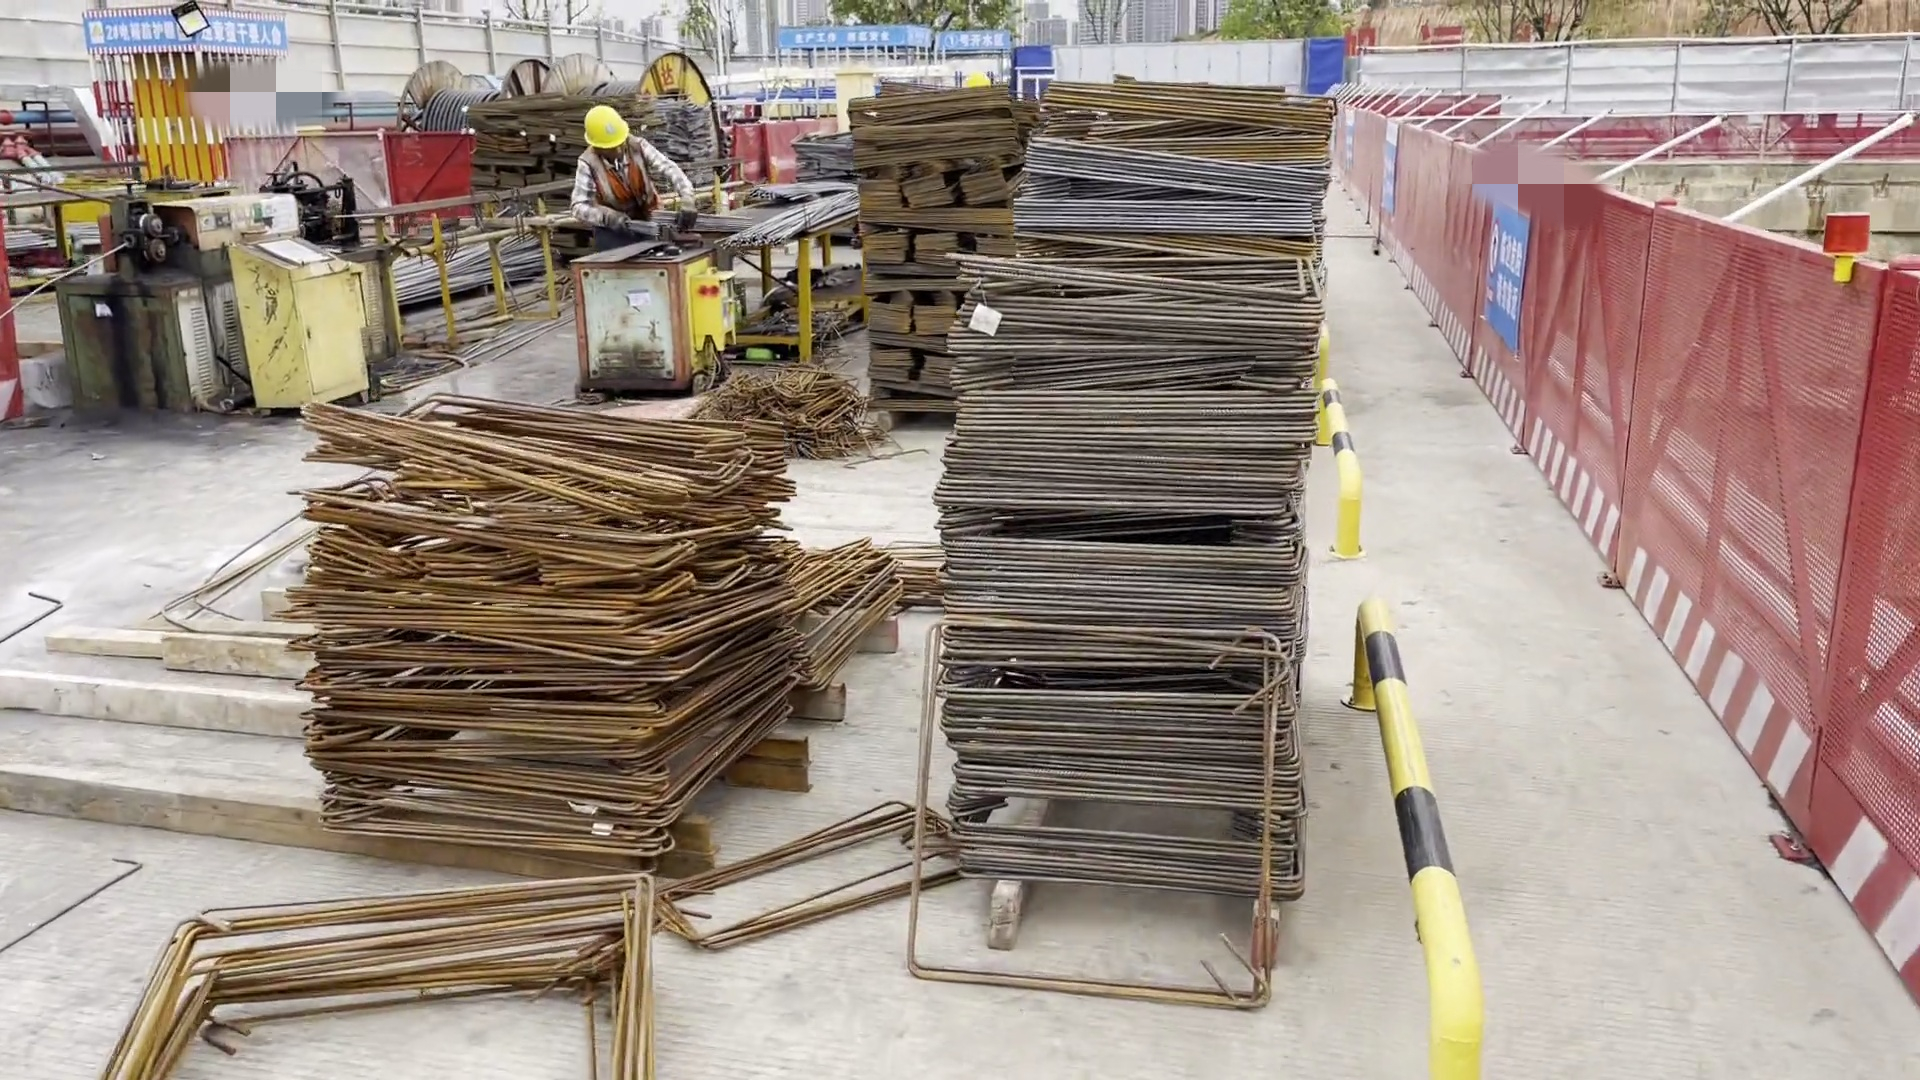cutter: (34, 166, 230, 416), (550, 223, 738, 414)
ebox: (223, 227, 376, 424), (113, 66, 234, 203), (822, 58, 876, 146)
fence: (1703, 218, 1920, 1016), (1458, 150, 1725, 734), (1335, 103, 1476, 330), (1471, 103, 1918, 173)
helmet: (578, 100, 642, 156)
person: (547, 91, 702, 249)
rebar: (730, 168, 853, 268), (394, 246, 556, 308)
slogan: (1449, 182, 1549, 373), (64, 7, 302, 76), (767, 15, 1017, 62), (1363, 105, 1410, 235), (1335, 100, 1365, 188)
vest: (571, 147, 676, 222)
